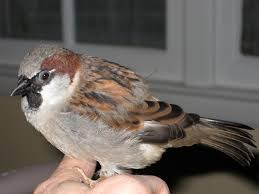hsparrow: (7, 39, 259, 188)
